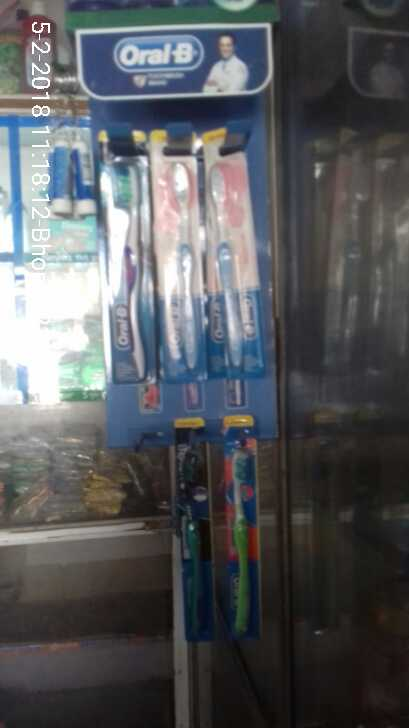oralb: (100, 155, 153, 387), (157, 158, 202, 381), (207, 164, 254, 377), (223, 415, 265, 640), (176, 416, 209, 640)
